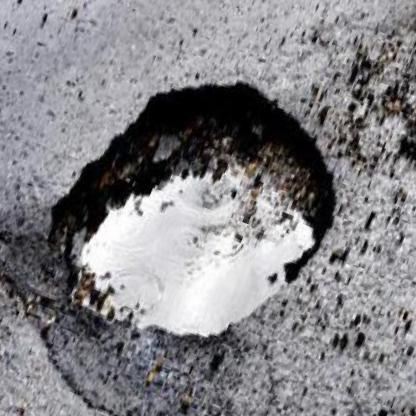pothole: (17, 22, 377, 386)
